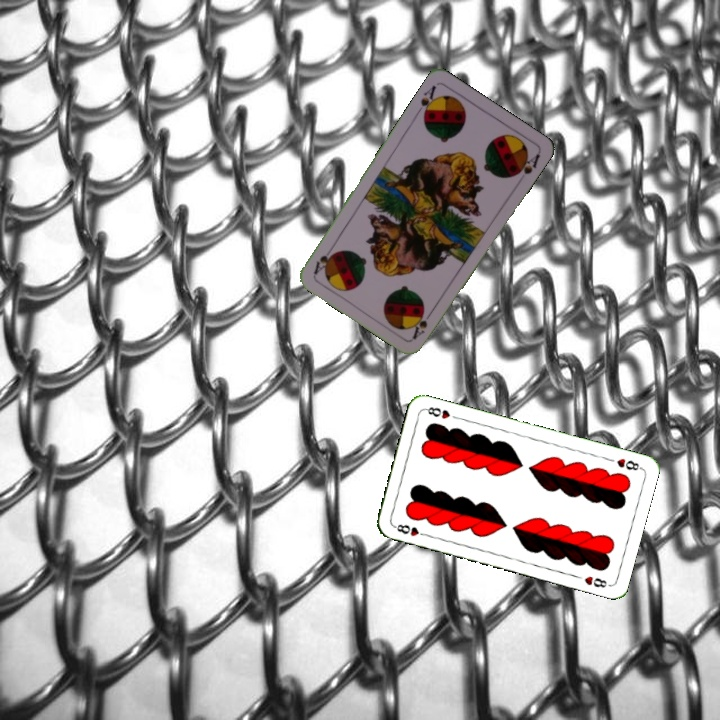H8: (390, 520, 430, 539), (613, 454, 644, 473)
SA: (412, 81, 441, 121), (408, 305, 436, 342)
